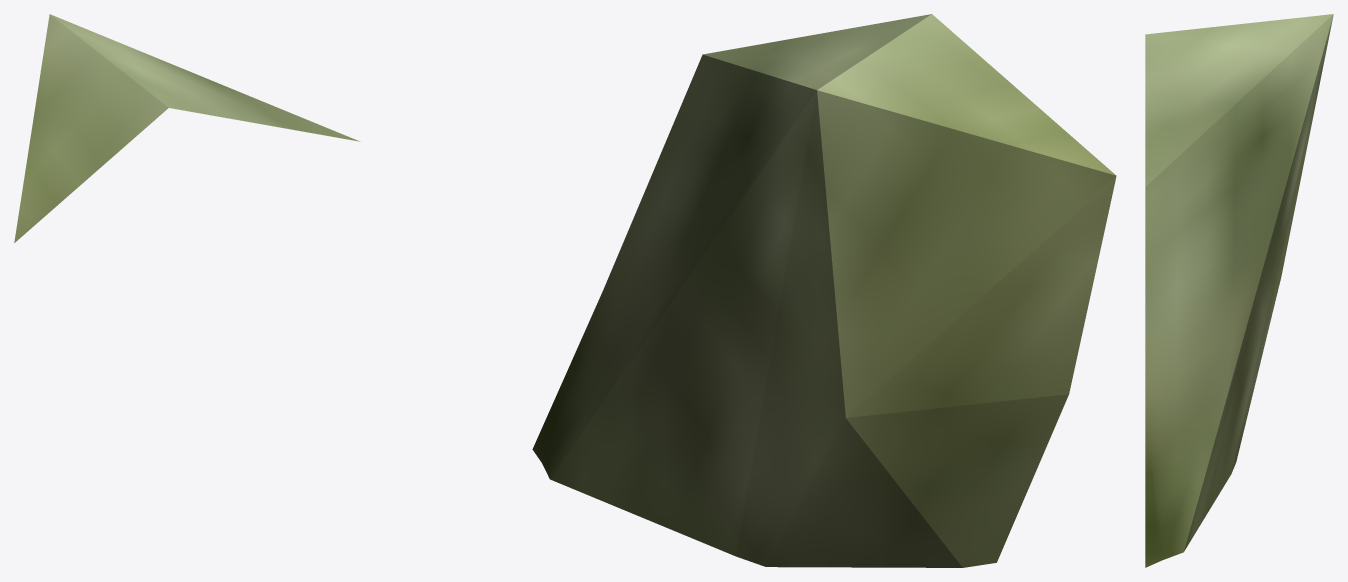
3 views of the same model, side by side, from view 1: azimuth 30°, elevation 25°; view 2: azimuth 150°, elevation 25°; view 3: azimuth 270°, elevation 25° (orthographic). The views are drawn at different scales.
Size of the model in its own units: 0.676 by 0.6129 by 0.2578.
1 material, 1 textured.
